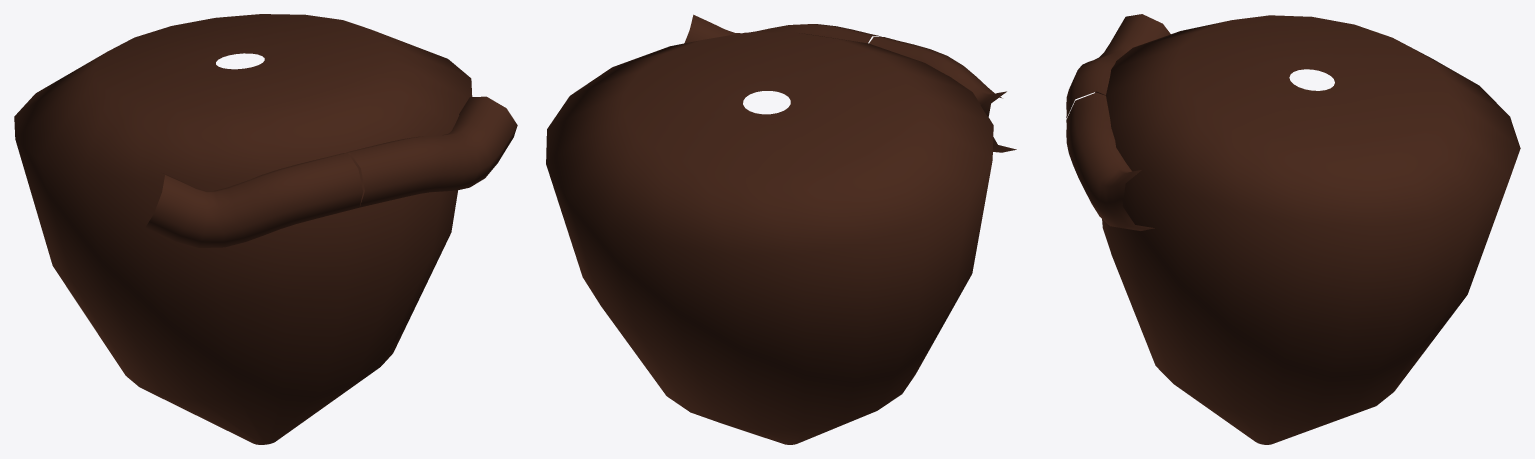
File: full.glb
3 views of the same model, side by side, from view 1: azimuth 30°, elevation 25°; view 2: azimuth 150°, elevation 25°; view 3: azimuth 270°, elevation 25° (orthographic). The views are drawn at different scales.
Visible parts, largest first — view 1: full_beard_mass, mustache_-1, mustache_1; view 2: full_beard_mass, mustache_-1, mustache_1; view 3: full_beard_mass, mustache_1, mustache_-1.
Boxes of the visible parts, bbox=[...] form: full_beard_mass: bbox=[14, 14, 472, 444]; mustache_-1: bbox=[145, 153, 363, 247]; mustache_1: bbox=[346, 96, 517, 207]; full_beard_mass: bbox=[546, 32, 993, 444]; mustache_-1: bbox=[869, 37, 1016, 152]; mustache_1: bbox=[684, 14, 881, 43]; full_beard_mass: bbox=[1095, 15, 1520, 444]; mustache_1: bbox=[1066, 92, 1154, 230]; mustache_-1: bbox=[1066, 14, 1170, 118].
Size of the model in its own units: 0.188 by 0.166 by 0.1819.
